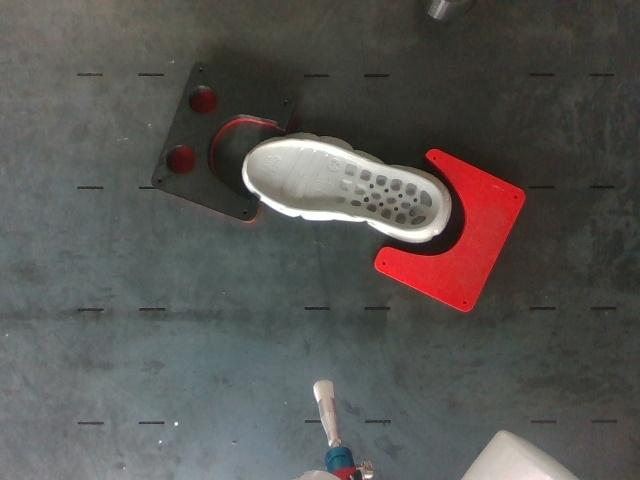shoes: (246, 140, 442, 232)
